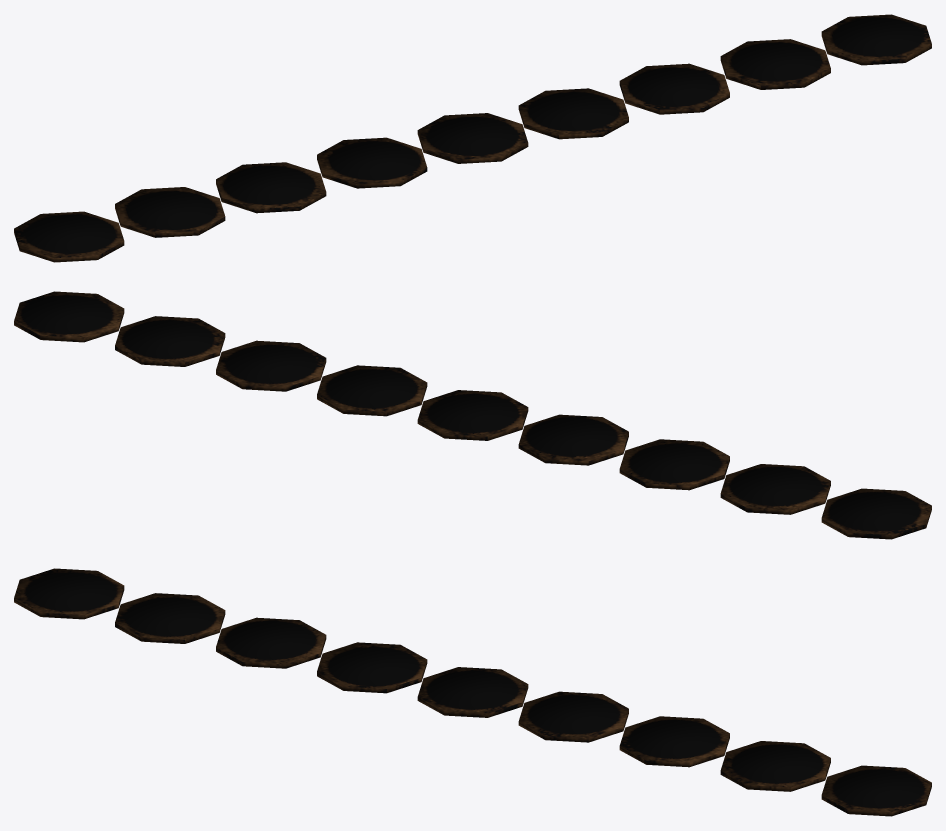
Rendered from base_puerta_pinchos.obj.
3 views of the same model, one above another, from view 1: azimuth 30°, elevation 25°; view 2: azimuth 150°, elevation 25°; view 3: azimuth 330°, elevation 25° (orthographic).
Visible parts, largest first — view 1: BasePuertaPinchos; view 2: BasePuertaPinchos; view 3: BasePuertaPinchos.
Boxes of the visible parts, bbox=[...] form: BasePuertaPinchos: bbox=[14, 14, 931, 262]; BasePuertaPinchos: bbox=[14, 291, 931, 539]; BasePuertaPinchos: bbox=[14, 568, 931, 816].
Bounding box in the file's own units: 14.37 × 0.0654 × 1.57.
Materials: 1 (1 with a texture image).
